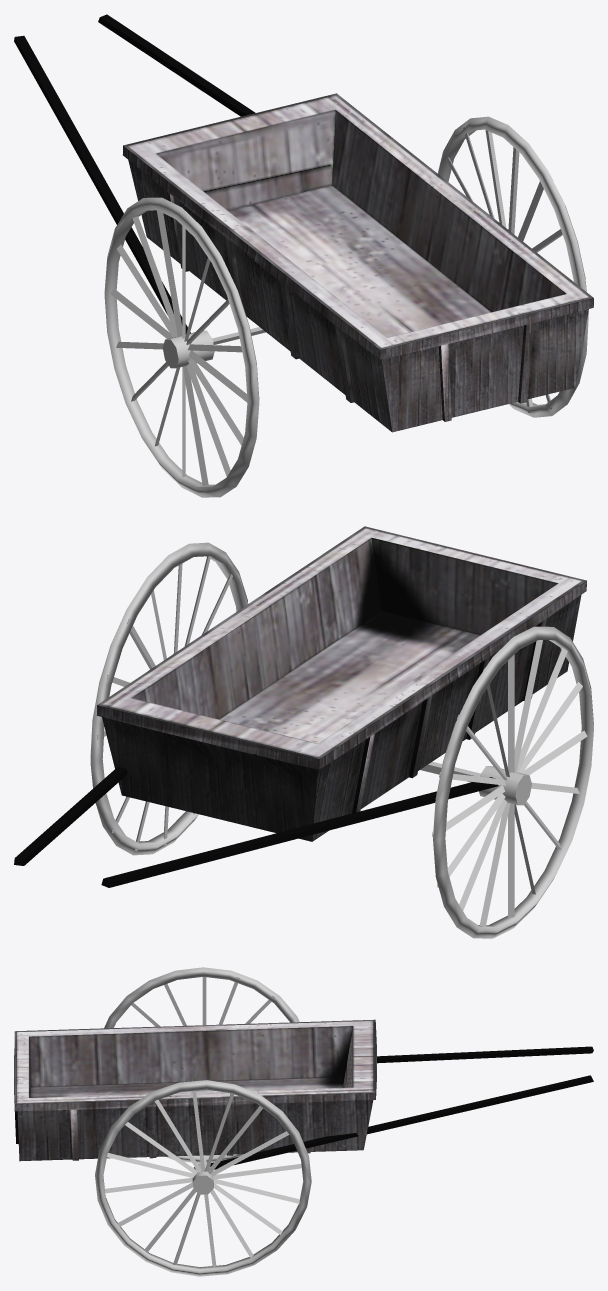
File: HorseCart.FBX
The picture shows the model from 3 angles, top to bottom: view 1: azimuth 30°, elevation 25°; view 2: azimuth 150°, elevation 25°; view 3: azimuth 270°, elevation 25°; orthographic projection. The views are drawn at different scales.
Visible parts, largest first — view 1: WagonLoPoly, WheelAxelLoPoly, WheelAxelLoPoly002, HorseCartPull01, HorseCartPull002; view 2: WagonLoPoly, WheelAxelLoPoly, WheelAxelLoPoly002, HorseCartPull01, HorseCartPull002; view 3: WagonLoPoly, WheelAxelLoPoly002, WheelAxelLoPoly, HorseCartPull002, HorseCartPull01.
Part boxes in pixels (x1,y1,x2,y2): WagonLoPoly: [123, 93, 593, 432]; WheelAxelLoPoly: [104, 197, 265, 497]; WheelAxelLoPoly002: [437, 116, 588, 417]; HorseCartPull01: [14, 35, 190, 334]; HorseCartPull002: [98, 14, 255, 116]; WagonLoPoly: [96, 526, 586, 841]; WheelAxelLoPoly: [420, 626, 593, 938]; WheelAxelLoPoly002: [90, 542, 248, 855]; HorseCartPull01: [101, 777, 498, 887]; HorseCartPull002: [14, 767, 127, 865]; WagonLoPoly: [14, 1019, 376, 1161]; WheelAxelLoPoly002: [95, 1080, 311, 1276]; WheelAxelLoPoly: [104, 967, 299, 1163]; HorseCartPull002: [194, 1075, 593, 1169]; HorseCartPull01: [377, 1046, 593, 1063].
Bounding box in the file's own units: 395 × 302 × 808.
